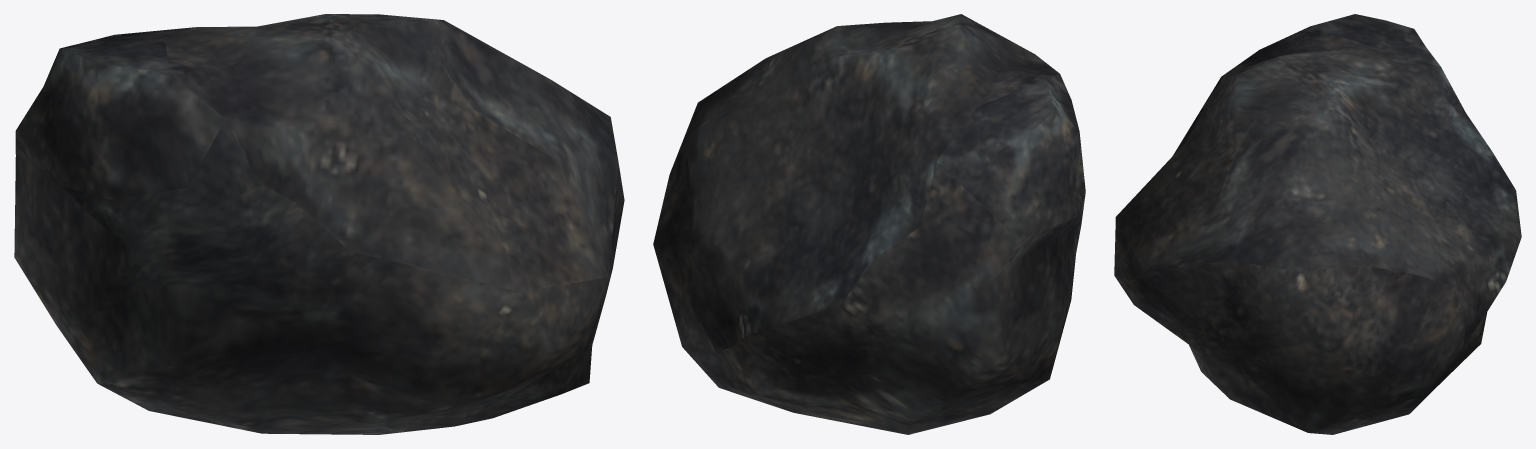
Rendered from asteroid_3.glb.
3 views of the same model, side by side, from view 1: azimuth 30°, elevation 25°; view 2: azimuth 150°, elevation 25°; view 3: azimuth 270°, elevation 25° (orthographic). The views are drawn at different scales.
Parts seen in each view (by area): view 1: scenery; view 2: scenery; view 3: scenery.
Boxes of the visible parts, x1,y1,x2,y2 form: scenery: (14,14,624,434); scenery: (653,14,1085,434); scenery: (1114,14,1521,434).
Bounding box in the file's own units: 1.69 × 1.39 × 1.66.
Materials: 1 (1 with a texture image).
